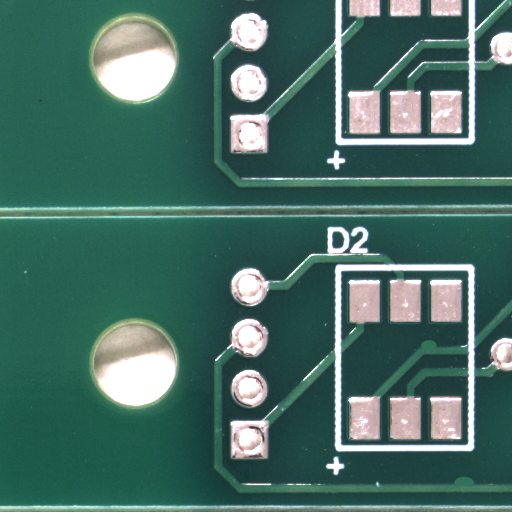Spur: (464, 482, 485, 497), (429, 343, 448, 352)
